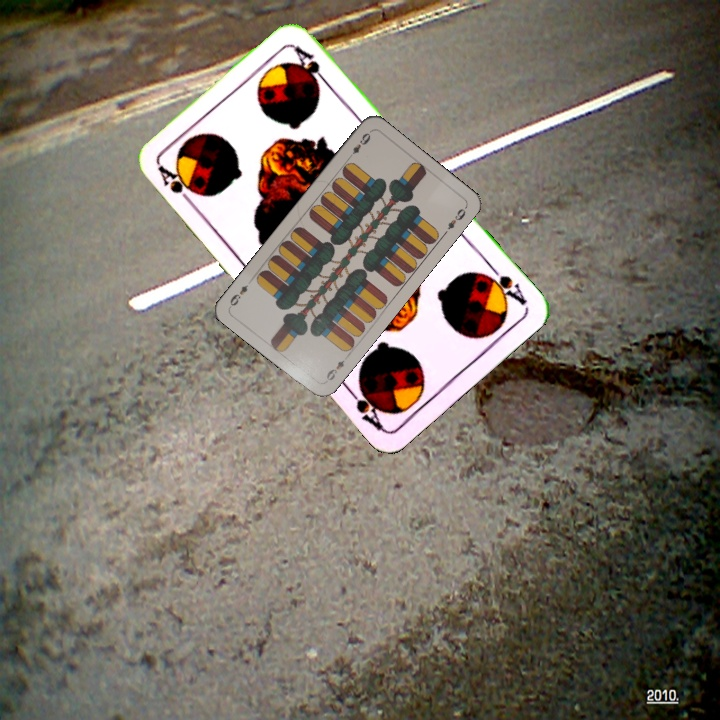E9: (345, 127, 374, 162), (322, 351, 350, 383)
SA: (477, 259, 530, 309), (154, 161, 198, 211)
